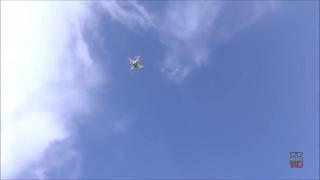UAV: (128, 56, 144, 71)
